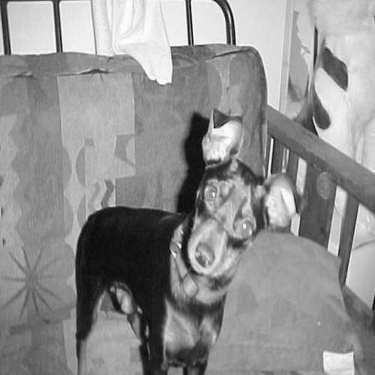dog: (62, 101, 311, 373)
